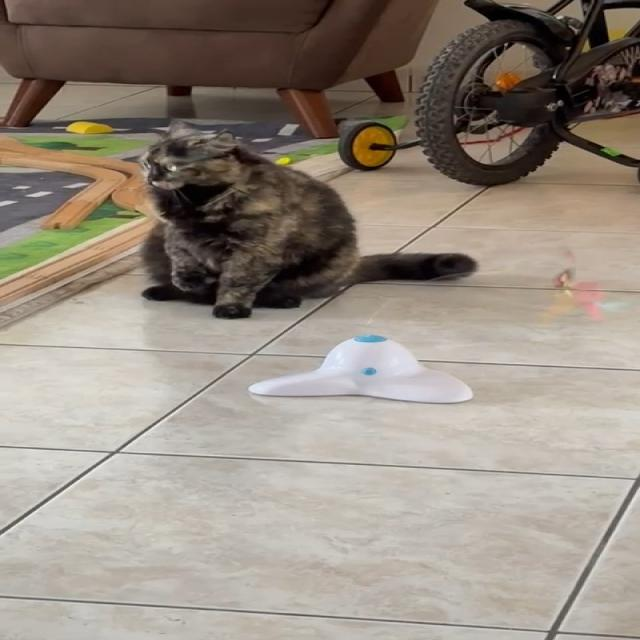authorized: (135, 118, 477, 320)
